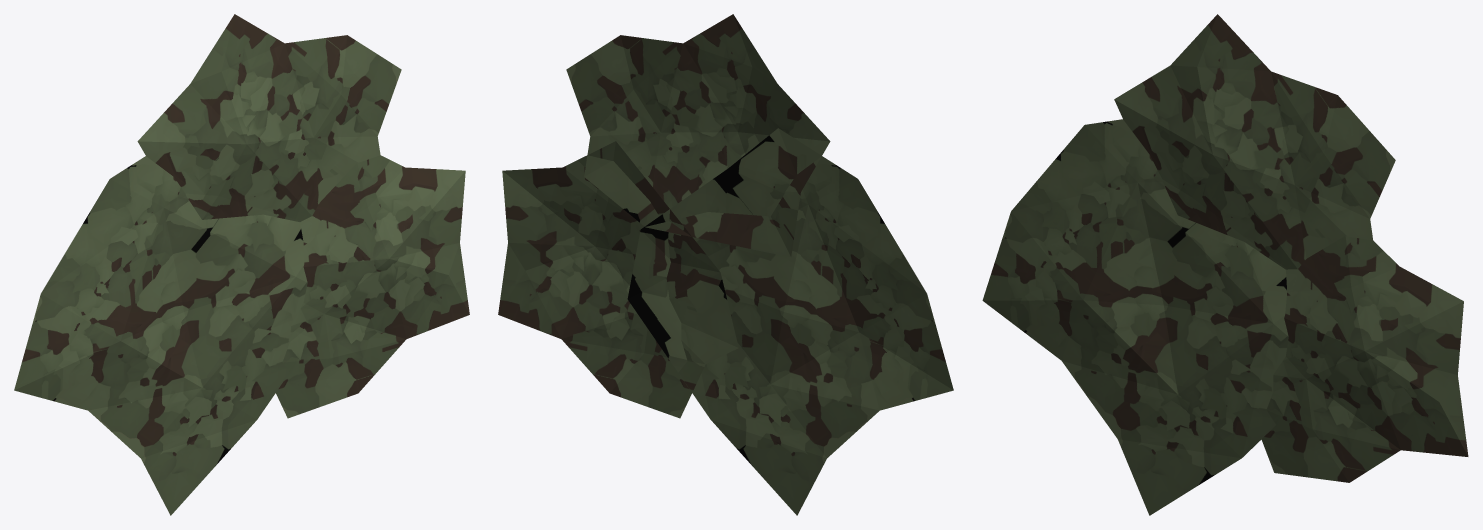
The model's file is SM_Gen_Env_Ivy_13.gltf.
3 views of the same model, side by side, from view 1: azimuth 30°, elevation 25°; view 2: azimuth 150°, elevation 25°; view 3: azimuth 330°, elevation 25° (orthographic). The views are drawn at different scales.
Parts seen in each view (by area): view 1: SM_Gen_Env_Ivy_13; view 2: SM_Gen_Env_Ivy_13; view 3: SM_Gen_Env_Ivy_13.
Part boxes in pixels (<box>): SM_Gen_Env_Ivy_13: <box>14,14,469,515</box>; SM_Gen_Env_Ivy_13: <box>498,14,953,515</box>; SM_Gen_Env_Ivy_13: <box>982,14,1468,515</box>.
Size of the model in its own units: 3.5 by 3.57 by 0.1109.
1 material, 1 textured.
